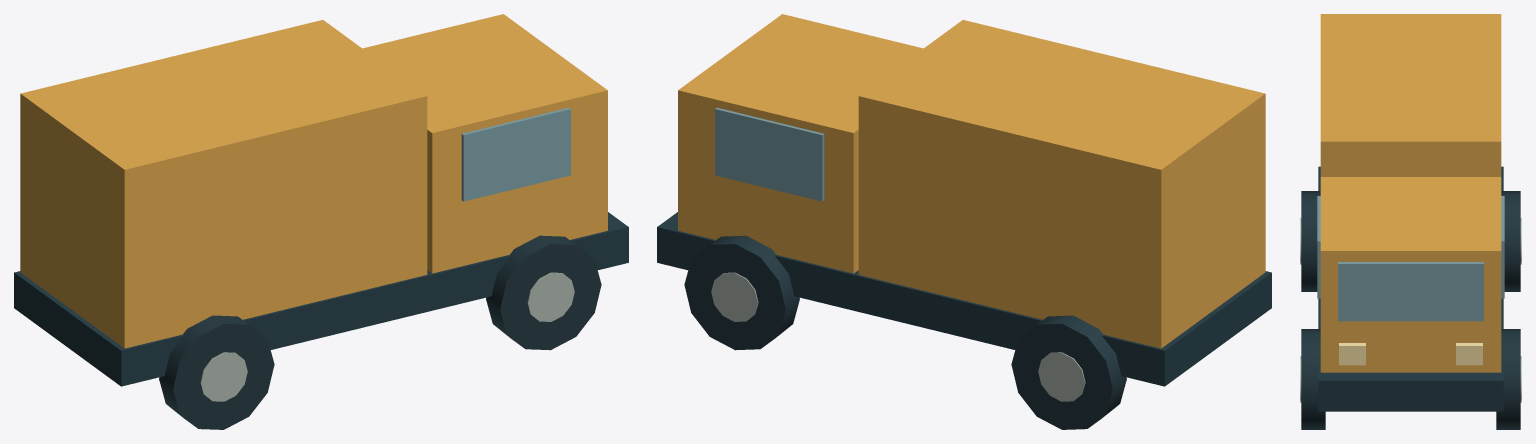
The model's file is diesel-truck.glb.
3 views of the same model, side by side, from view 1: azimuth 30°, elevation 25°; view 2: azimuth 150°, elevation 25°; view 3: azimuth 270°, elevation 25° (orthographic). The views are drawn at different scales.
Parts seen in each view (by area): view 1: diesel-truck (×8); view 2: diesel-truck (×8); view 3: diesel-truck (×12).
Part boxes in pixels (left/top/right/bottom): diesel-truck (×8): left=14, top=14, right=628, bottom=429; diesel-truck (×8): left=657, top=14, right=1271, bottom=429; diesel-truck (×12): left=1301, top=14, right=1520, bottom=429.
Size of the model in its own units: 5.2 by 2.67 by 2.27.
